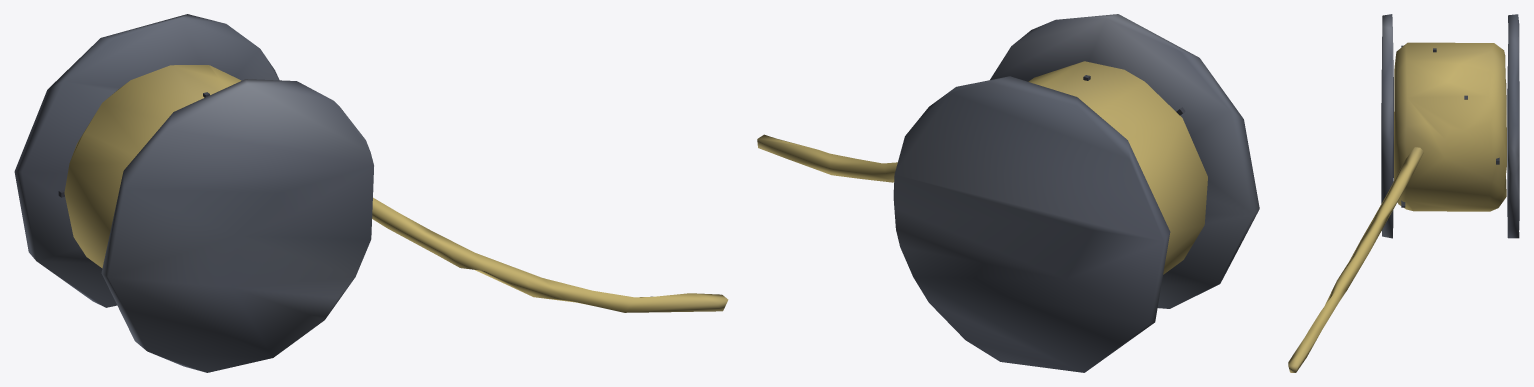
Rendered from bay_reel.glb.
3 renders of one model, left to right at view 1: azimuth 30°, elevation 25°; view 2: azimuth 150°, elevation 25°; view 3: azimuth 270°, elevation 25°, orthographic. The views are drawn at different scales.
Parts seen in each view (by area): view 1: reel; view 2: reel; view 3: reel.
Part boxes in pixels (x1,y1,x2,y2): reel: (14, 14, 728, 372); reel: (757, 14, 1259, 372); reel: (1288, 14, 1519, 372).
Size of the model in its own units: 1.47 by 0.715 by 0.7359.
